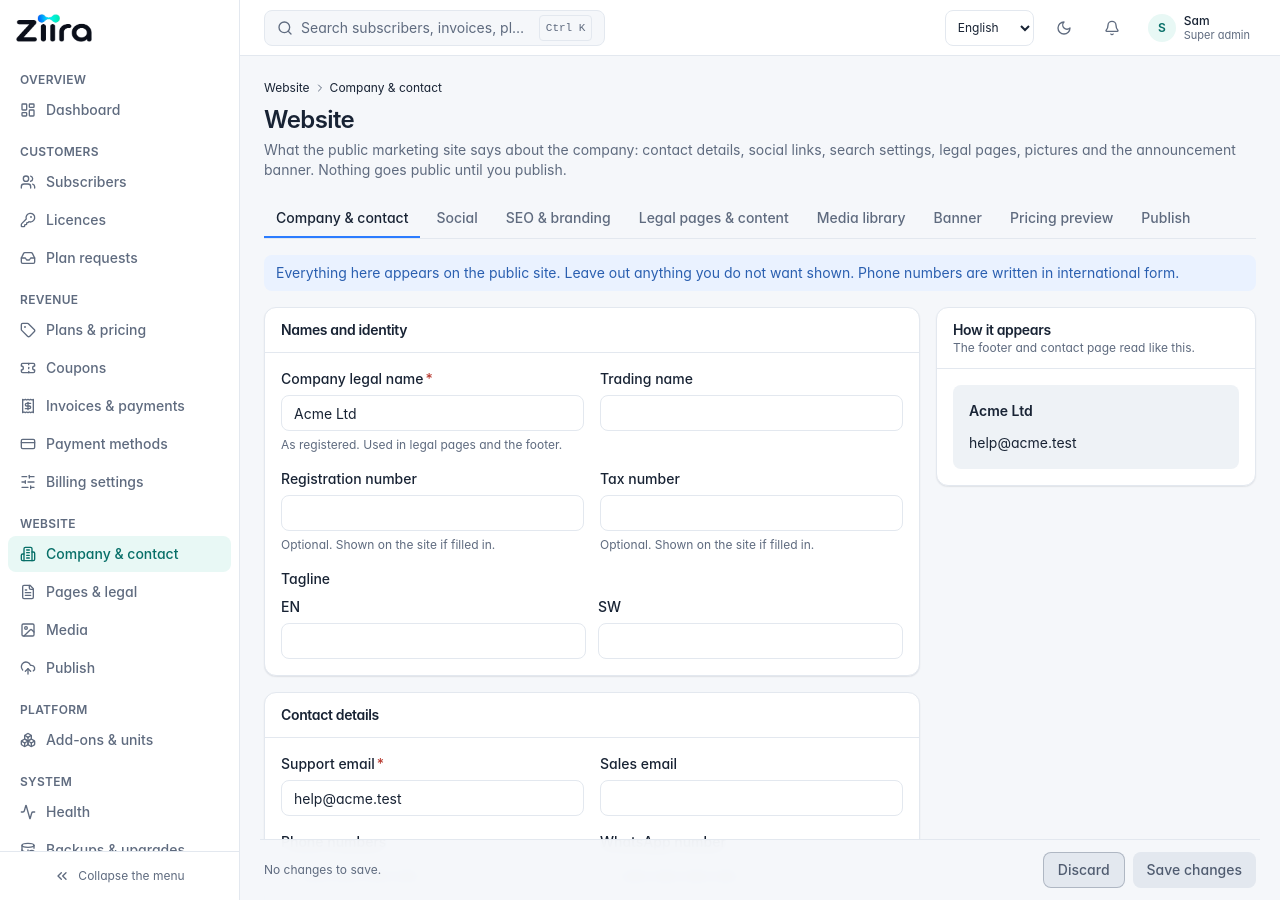
Test: company and contact › marks a bad email at once, keeps Save off, and sends only what changed
Expected: the button "Save changes" is disabled, [1132, 852, 1256, 888]
Type "not-an-email" into the field labelled "Sales email".
click(752, 798); type("not-an-email")  # box [600, 780, 903, 816]
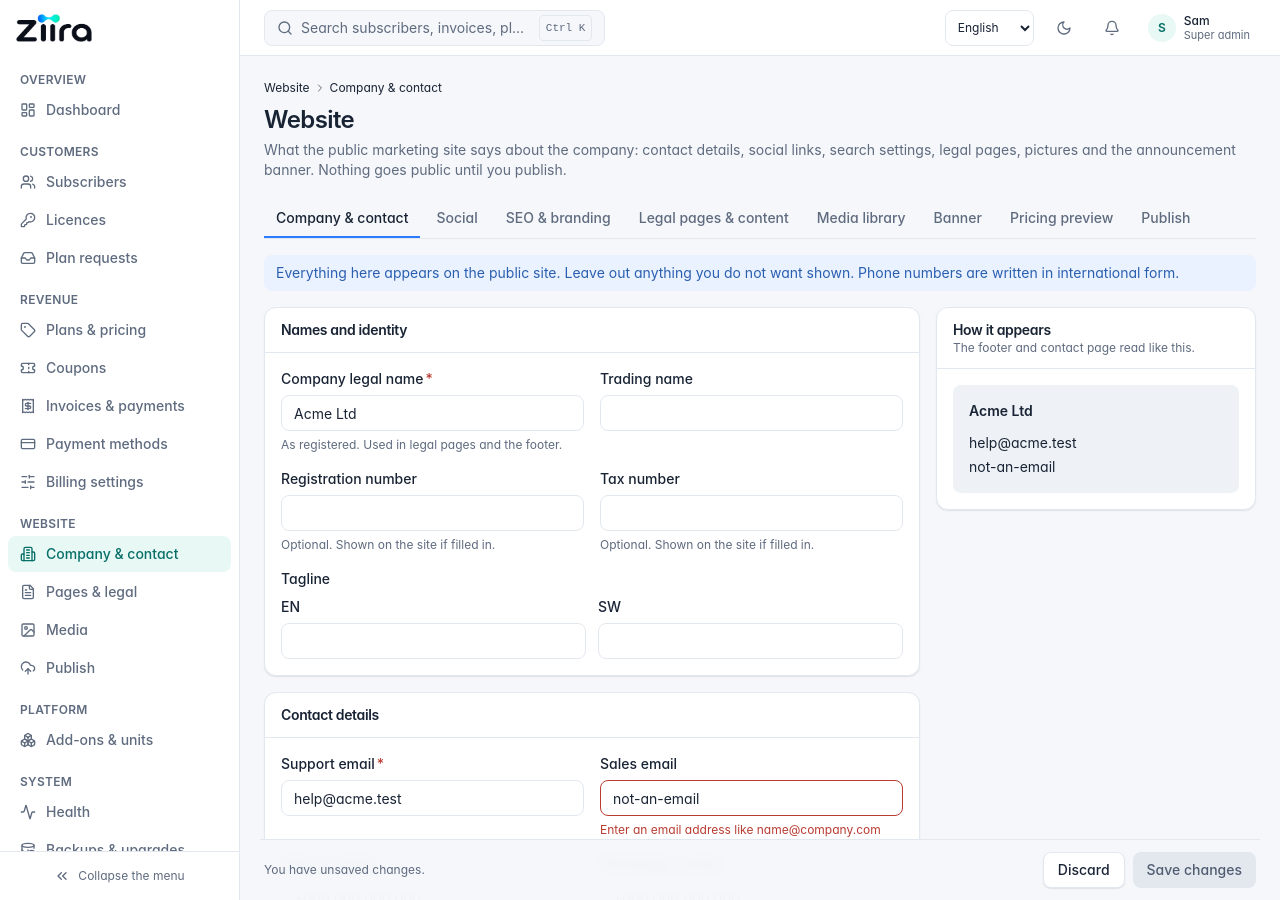
Expected: the button "Save changes" is disabled, [1132, 852, 1256, 888]
Now the text "Enter an email address like name@company.com" is shown, box [600, 822, 903, 838]
Replace the text in the field labelled "Sales email" with "sales@acme.test" at (752, 798), box [600, 780, 903, 816]
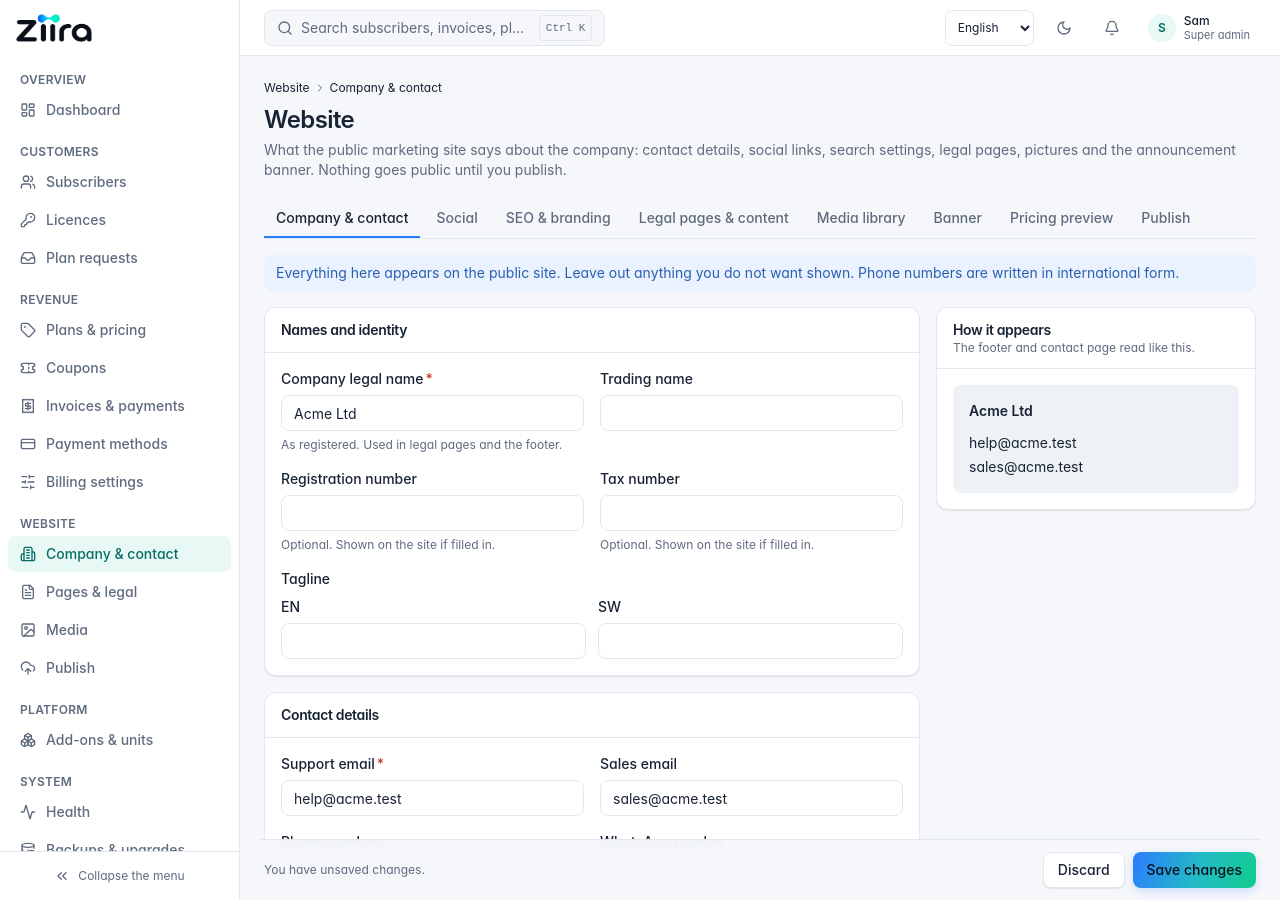
Now the button "Save changes" is enabled
Click the button "Save changes".
click(1194, 870)  # box [1132, 852, 1256, 888]
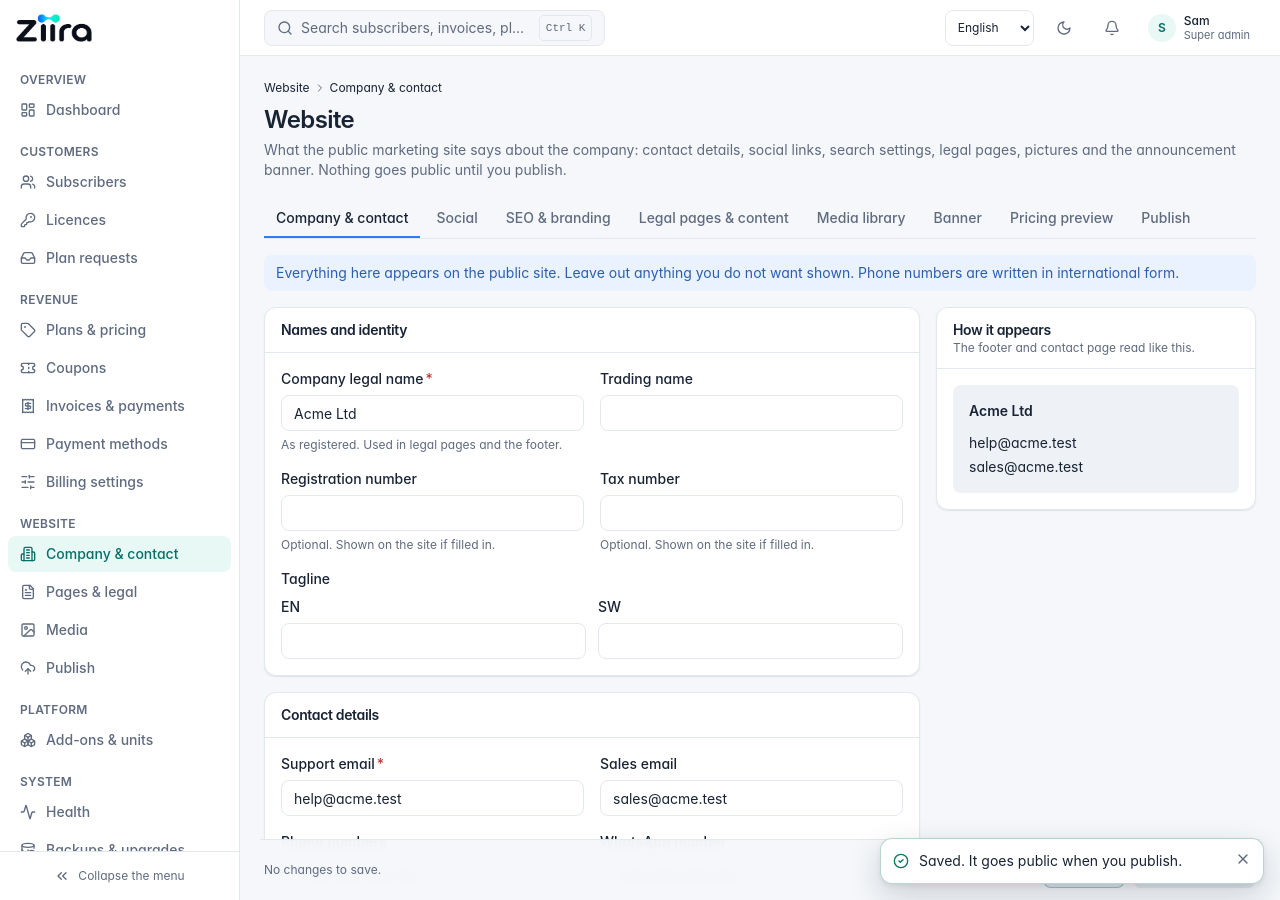
Now the button "Save changes" is disabled, box [1132, 852, 1256, 888]
